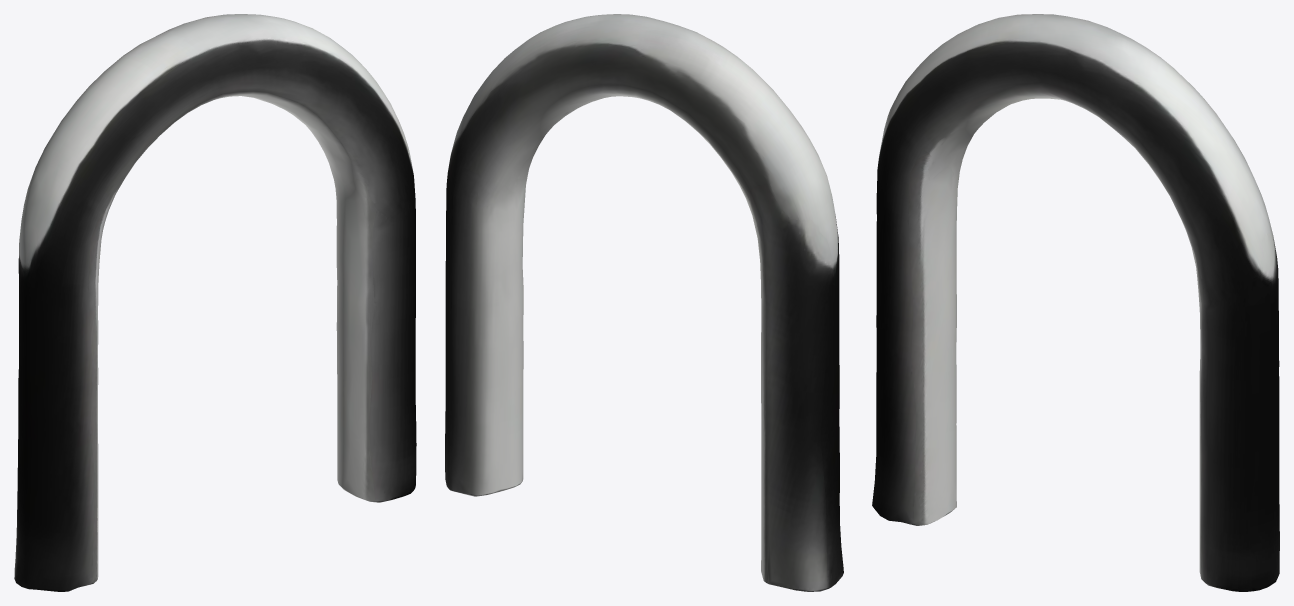
File: m2ColorGateArchV2.glb
3 views of the same model, side by side, from view 1: azimuth 30°, elevation 25°; view 2: azimuth 150°, elevation 25°; view 3: azimuth 330°, elevation 25° (orthographic). The views are drawn at different scales.
Visible parts, largest first — view 1: model; view 2: model; view 3: model.
Part boxes in pixels (x1,y1,x2,y2): model: [14, 14, 416, 591]; model: [445, 14, 843, 591]; model: [872, 14, 1279, 591].
Size of the model in its own units: 1.49 by 1.9 by 0.2641.
Materials: 1 (1 with a texture image).
